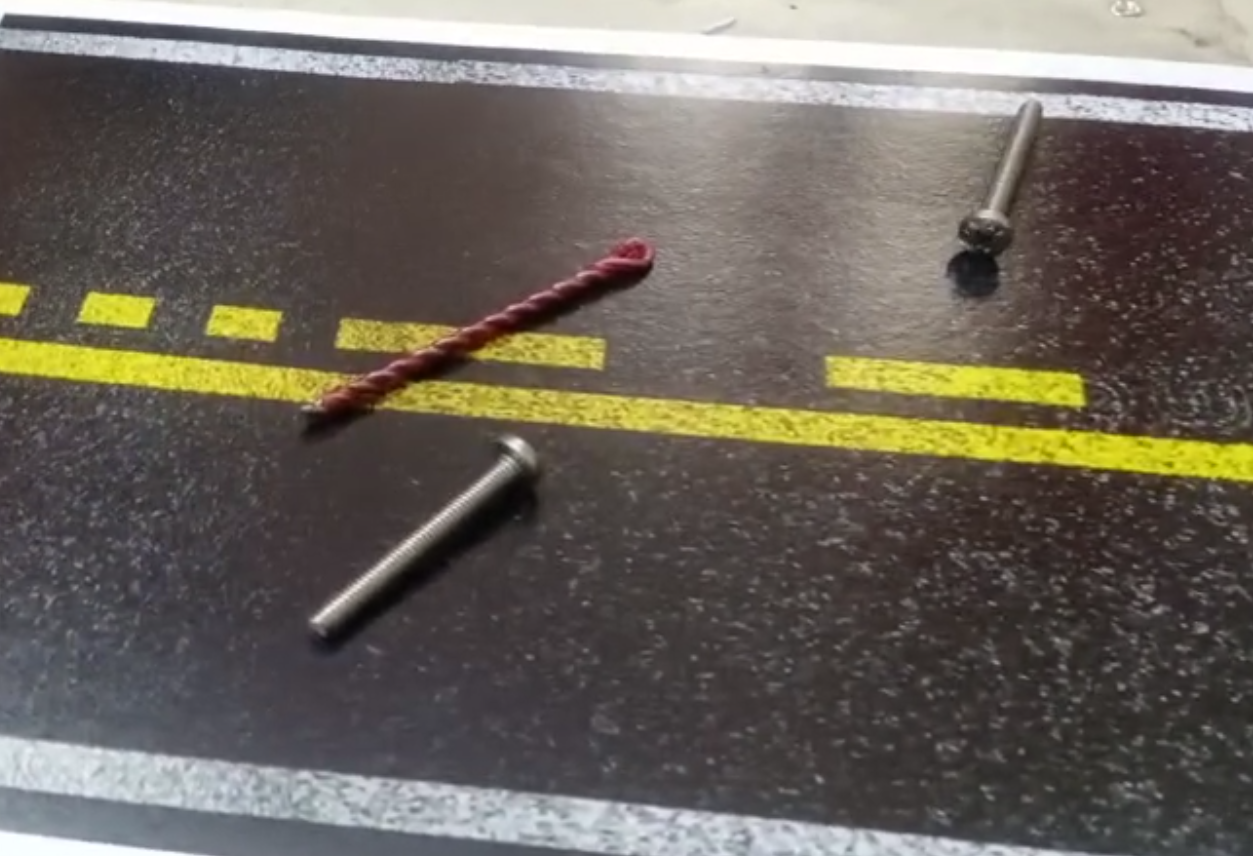metal: (305, 236, 670, 456), (298, 424, 565, 661), (944, 97, 1051, 264)
